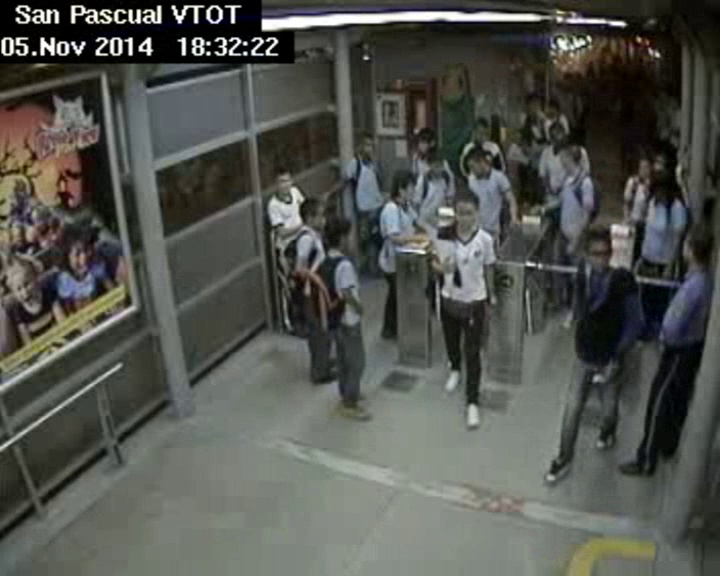person: (574, 225, 618, 266), (448, 188, 486, 235), (681, 227, 717, 270), (647, 167, 682, 204), (389, 169, 424, 201), (550, 143, 585, 175), (417, 154, 448, 186), (325, 219, 355, 251), (301, 195, 328, 229), (460, 151, 494, 173), (636, 150, 656, 186), (465, 114, 489, 143), (272, 170, 297, 197), (356, 131, 378, 158), (415, 127, 436, 153), (520, 94, 540, 117), (547, 123, 572, 141), (545, 93, 560, 115)
